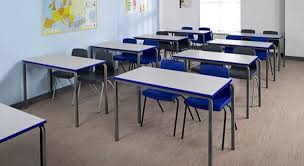desk: (113, 64, 235, 165), (172, 47, 260, 118), (22, 52, 105, 127), (206, 38, 275, 88), (89, 40, 155, 66), (133, 33, 188, 52), (158, 26, 211, 41), (228, 32, 284, 41)
